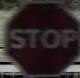Stop: (1, 5, 76, 65)
